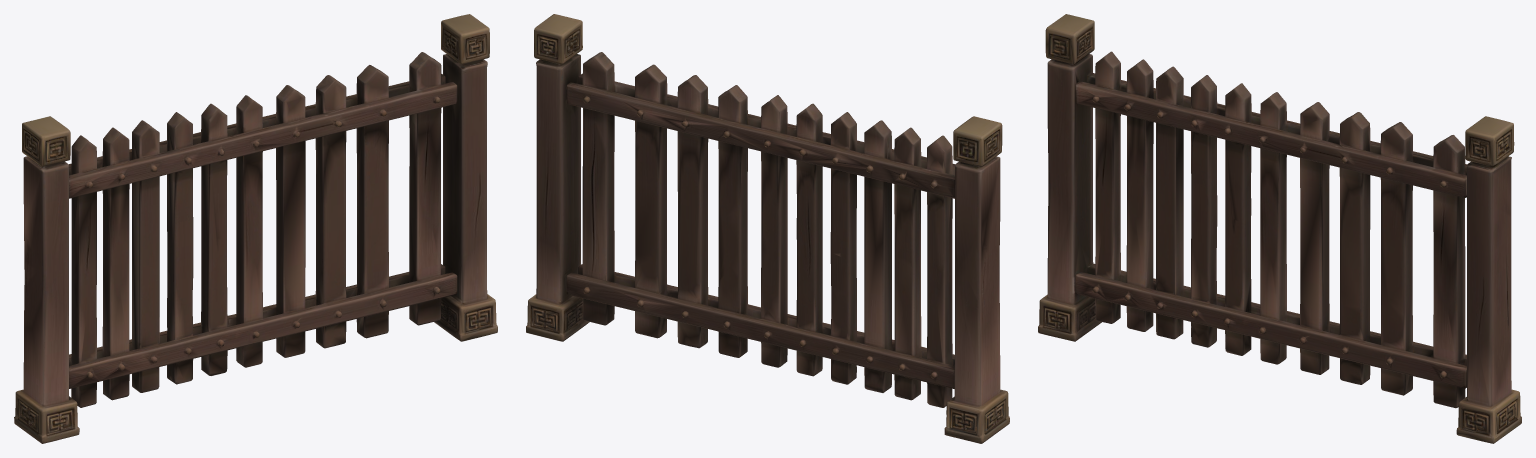
The model's file is woodFence.glb.
3 renders of one model, left to right at view 1: azimuth 30°, elevation 25°; view 2: azimuth 150°, elevation 25°; view 3: azimuth 330°, elevation 25°, orthographic.
Parts seen in each view (by area): view 1: node_0; view 2: node_0; view 3: node_0.
Part boxes in pixels (x1,y1,x2,y2): node_0: (14, 14, 497, 443); node_0: (526, 14, 1009, 443); node_0: (1038, 14, 1521, 443).
Bounding box in the file's own units: 1.57 × 0.9997 × 0.1717.
1 material, 1 textured.
